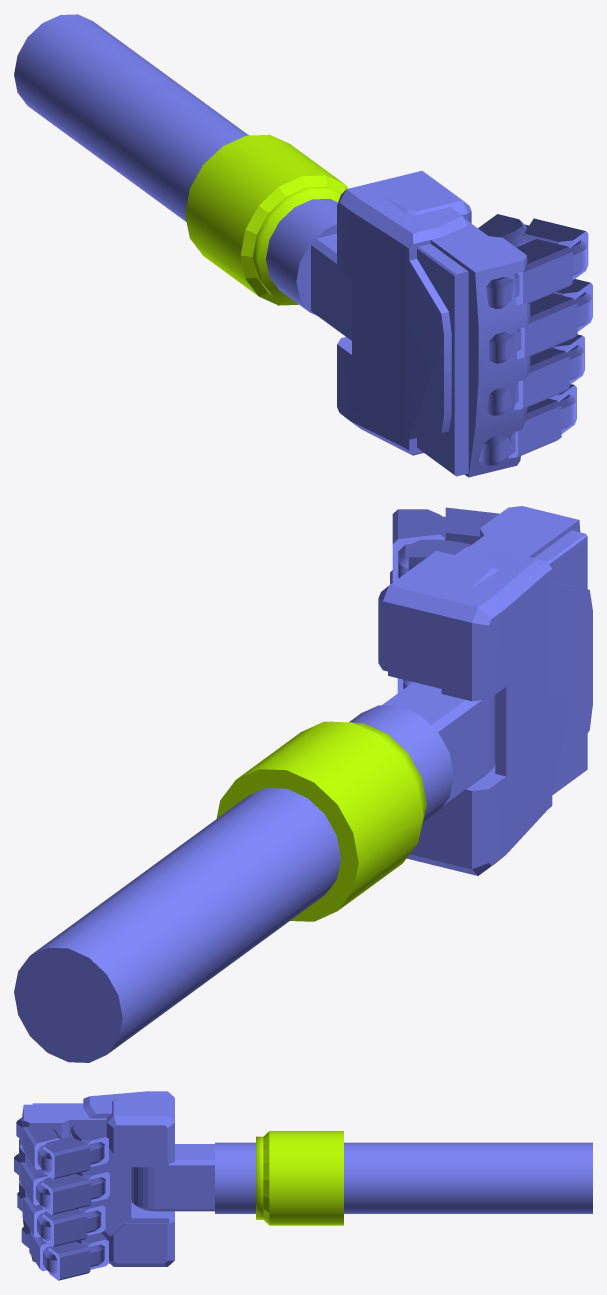
The model's file is PunchWeapon_NoUV.FBX.
The picture shows the model from 3 angles, top to bottom: view 1: azimuth 30°, elevation 25°; view 2: azimuth 150°, elevation 25°; view 3: azimuth 270°, elevation 25°; orthographic projection. The views are drawn at different scales.
Parts seen in each view (by area): view 1: Palma, BasePunch; view 2: Palma, BasePunch; view 3: Palma, BasePunch.
Boxes of the visible parts, x1=… form: Palma: x1=14, y1=14, x2=592, y2=477; BasePunch: x1=185, y1=134, x2=348, y2=305; Palma: x1=14, y1=506, x2=592, y2=1062; BasePunch: x1=216, y1=721, x2=426, y2=921; Palma: x1=14, y1=1091, x2=592, y2=1280; BasePunch: x1=256, y1=1131, x2=343, y2=1225.
Bounding box in the file's own units: 12.55 × 14.42 × 49.32.
